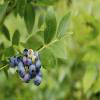Blueberry leaf: (42, 6, 57, 45), (56, 10, 74, 39), (39, 50, 58, 71), (51, 40, 68, 60)
